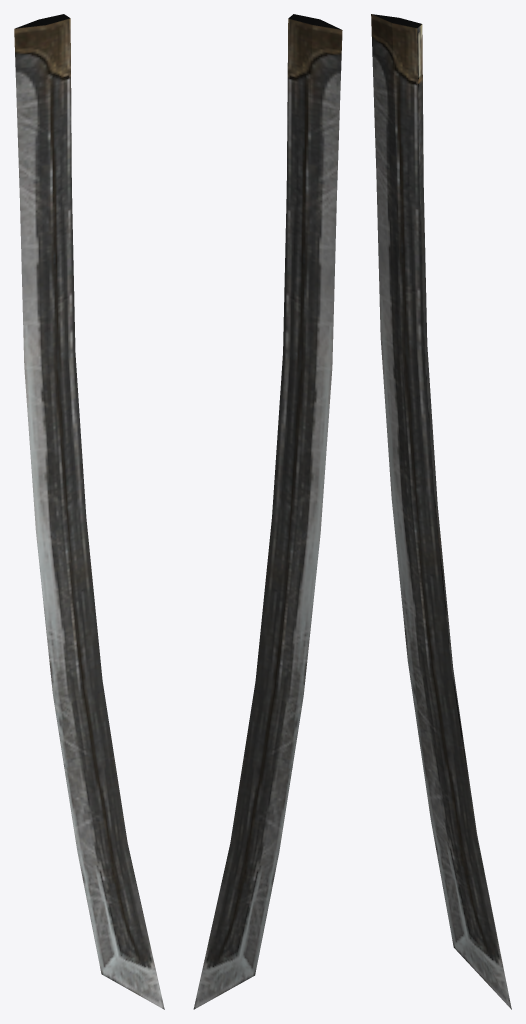
File: Wushidao_body.FBX
The picture shows the model from 3 angles, left to right: view 1: azimuth 30°, elevation 25°; view 2: azimuth 150°, elevation 25°; view 3: azimuth 330°, elevation 25°; orthographic projection. The views are drawn at different scales.
Parts seen in each view (by area): view 1: Wushidao_body; view 2: Wushidao_body; view 3: Wushidao_body.
Boxes of the visible parts, left/top/right/bottom form: Wushidao_body: left=14, top=14, right=164, bottom=1009; Wushidao_body: left=193, top=14, right=342, bottom=1009; Wushidao_body: left=371, top=14, right=511, bottom=1009.
Bounding box in the file's own units: 17.79 × 115 × 1.55.
Materials: 1 (1 with a texture image).
